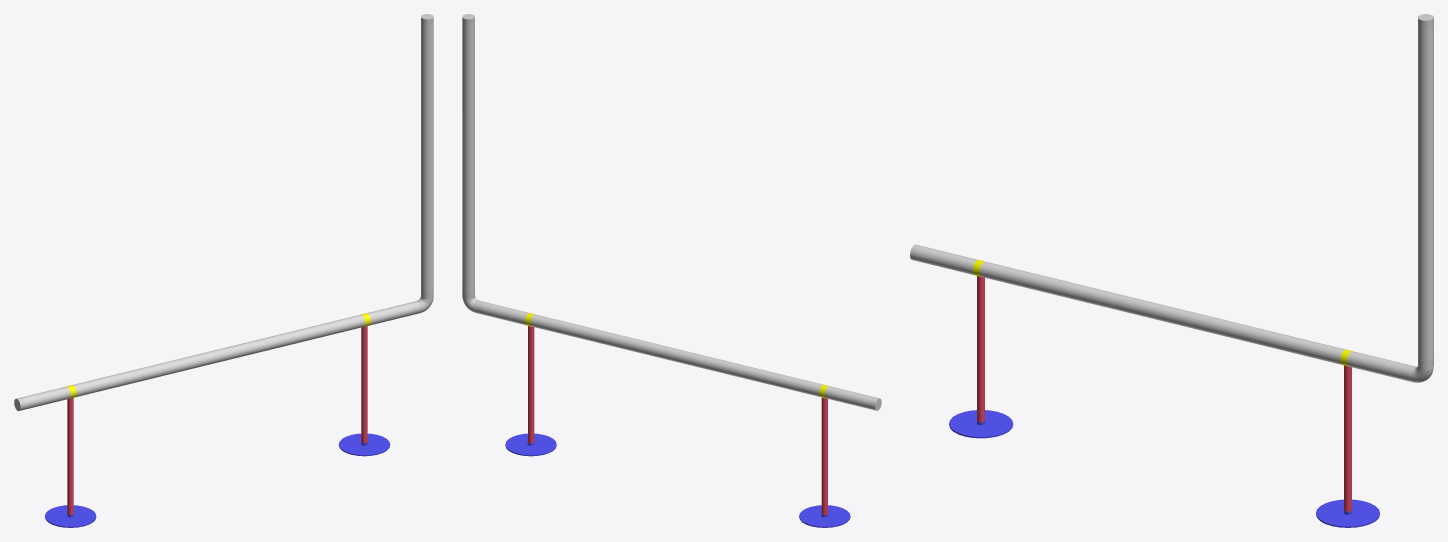
Rendered from gate.dae.
3 views of the same model, side by side, from view 1: azimuth 30°, elevation 25°; view 2: azimuth 150°, elevation 25°; view 3: azimuth 330°, elevation 25° (orthographic). The views are drawn at different scales.
Parts seen in each view (by area): view 1: instance_8_007, instance_7_002, instance_3_004, instance_3_001, instance_4, instance_4_001, instance_8_004, instance_8_002; view 2: instance_8_007, instance_7_002, instance_3_001, instance_3_004, instance_4_001, instance_4, instance_8_004, instance_8_002; view 3: instance_8_007, instance_7_002, instance_3_004, instance_3_001, instance_4, instance_4_001, instance_8_004, instance_8_002.
Part boxes in pixels (x1=…): instance_8_007: x1=73, y1=314, x2=365, y2=397; instance_7_002: x1=421, y1=23, x2=433, y2=292; instance_3_004: x1=45, y1=505, x2=96, y2=527; instance_3_001: x1=338, y1=433, x2=390, y2=456; instance_4: x1=361, y1=326, x2=367, y2=443; instance_4_001: x1=67, y1=398, x2=73, y2=514; instance_8_004: x1=21, y1=386, x2=70, y2=409; instance_8_002: x1=367, y1=302, x2=413, y2=325; instance_8_007: x1=530, y1=314, x2=822, y2=396; instance_7_002: x1=462, y1=23, x2=474, y2=291; instance_3_001: x1=505, y1=433, x2=556, y2=456; instance_3_004: x1=799, y1=505, x2=850, y2=527; instance_4_001: x1=821, y1=397, x2=827, y2=514; instance_4: x1=528, y1=326, x2=534, y2=443; instance_8_004: x1=825, y1=386, x2=874, y2=409; instance_8_002: x1=482, y1=302, x2=528, y2=324; instance_8_007: x1=980, y1=261, x2=1345, y2=364; instance_7_002: x1=1418, y1=25, x2=1433, y2=361; instance_3_004: x1=949, y1=410, x2=1013, y2=438; instance_3_001: x1=1316, y1=499, x2=1379, y2=527; instance_4: x1=1344, y1=365, x2=1351, y2=511; instance_4_001: x1=977, y1=276, x2=984, y2=422; instance_8_004: x1=916, y1=246, x2=977, y2=274; instance_8_002: x1=1347, y1=351, x2=1405, y2=379.
Size of the model in its own units: 1.87 by 0.2 by 1.77.
